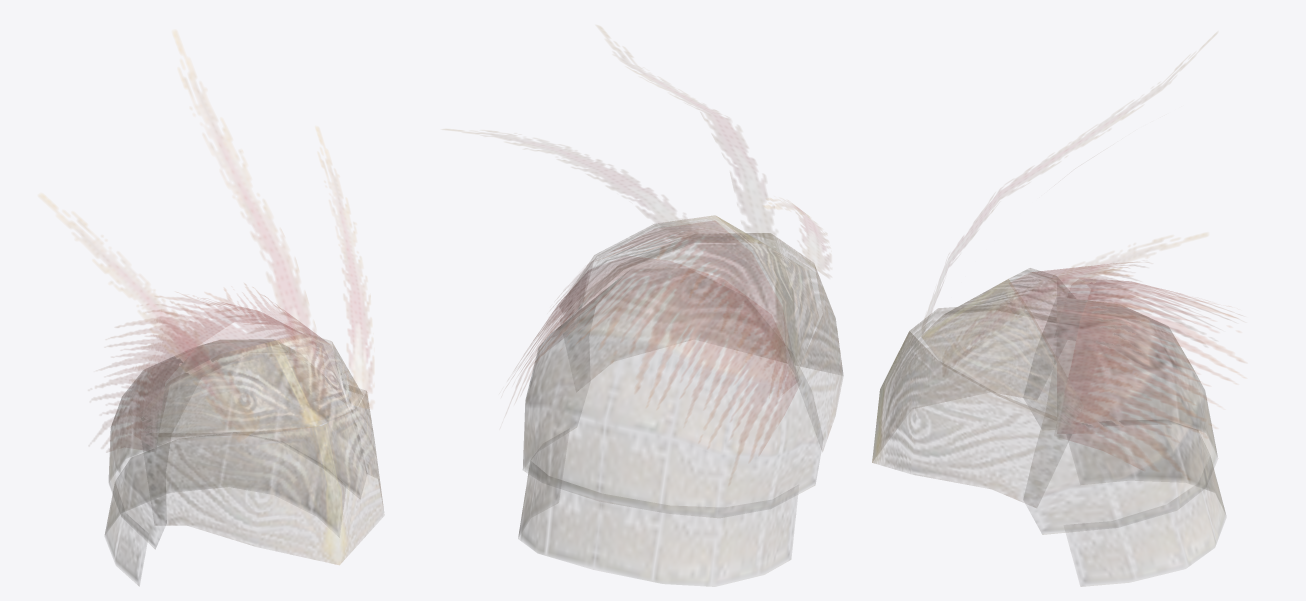
File: light_03_ha.glb
3 renders of one model, left to right at view 1: azimuth 30°, elevation 25°; view 2: azimuth 150°, elevation 25°; view 3: azimuth 270°, elevation 25°, orthographic. The views are drawn at different scales.
Visible parts, largest first — view 1: light_03_ha; view 2: light_03_ha; view 3: light_03_ha.
Part boxes in pixels (box(x1,y1,x2,y2)): light_03_ha: box(42, 33, 383, 585); light_03_ha: box(446, 27, 843, 586); light_03_ha: box(872, 34, 1240, 586).
Bounding box in the file's own units: 0.2585 × 0.3868 × 0.2866.
Materials: 1 (1 with a texture image).
